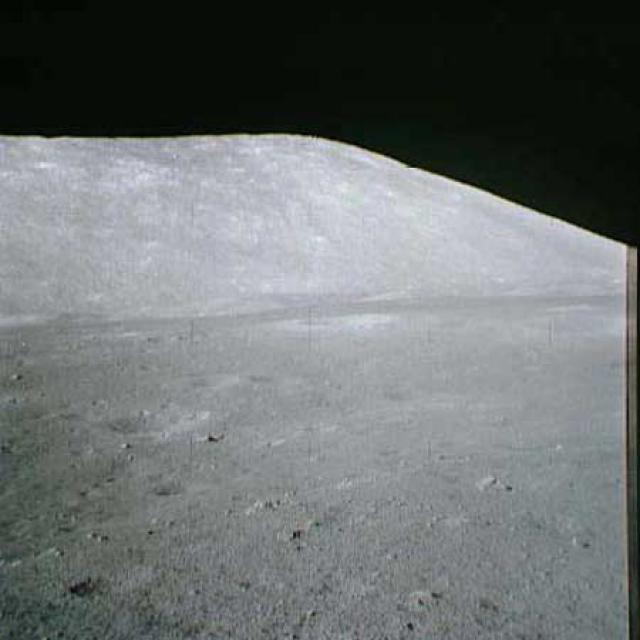crater: (100, 402, 211, 441)
